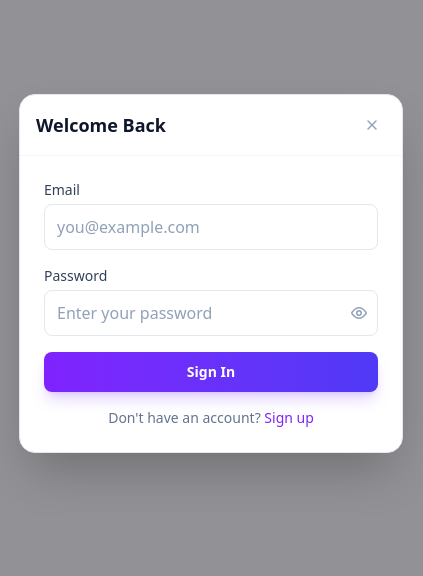
Scenario: AuthModal › switches back to login from register
Click the button "Sign up". click: (289,418)
box: [264,408,314,428]
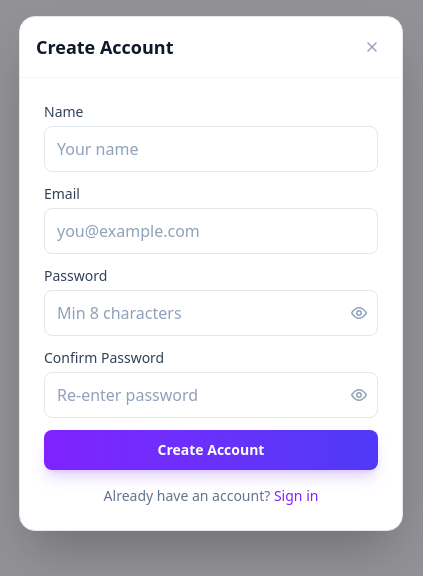
Click the button "Sign in". click: (296,496)
box: [274,486,318,506]
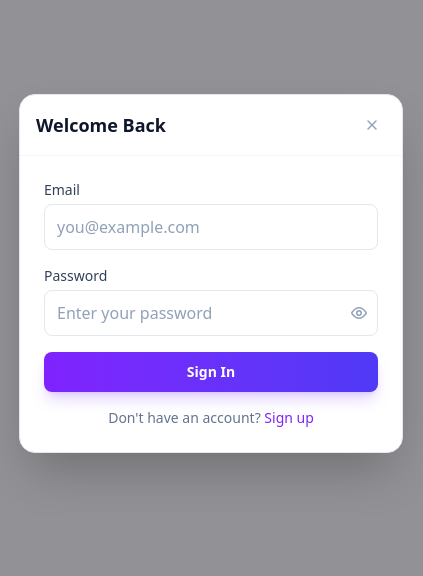
Expected: the heading "Welcome Back" is shown, [36,110,166,138]
